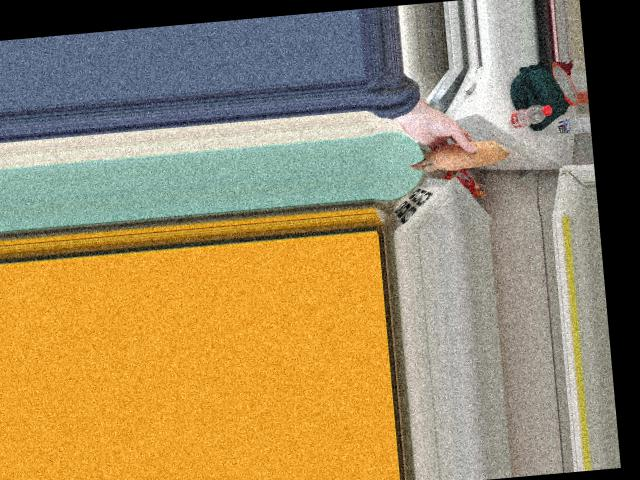sweet_potato: (410, 132, 498, 173)
